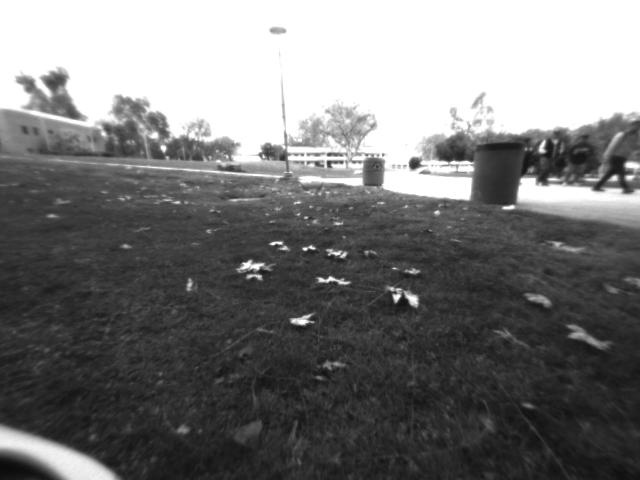trashcan: (467, 135, 528, 215), (357, 151, 389, 191)
